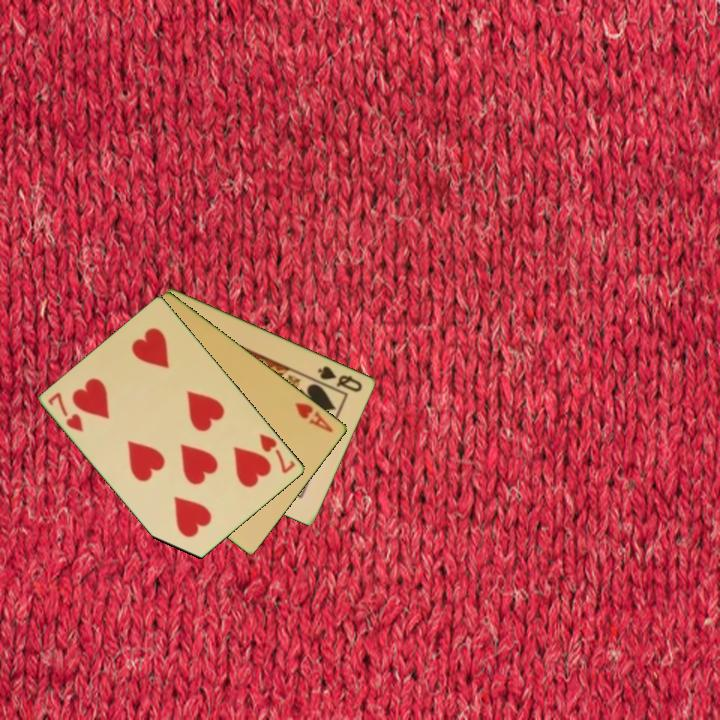7h: (256, 430, 299, 477), (45, 389, 87, 435)
Ah: (292, 399, 337, 436)
Qs: (314, 362, 366, 395)
